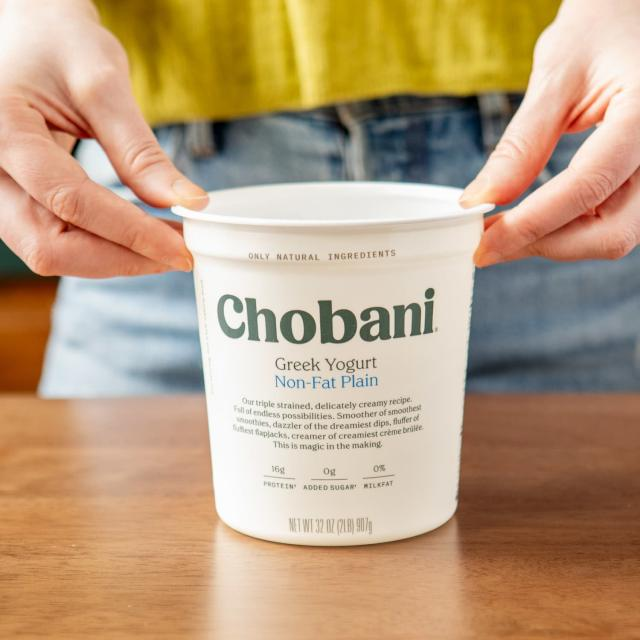plastic: (184, 173, 496, 543)
